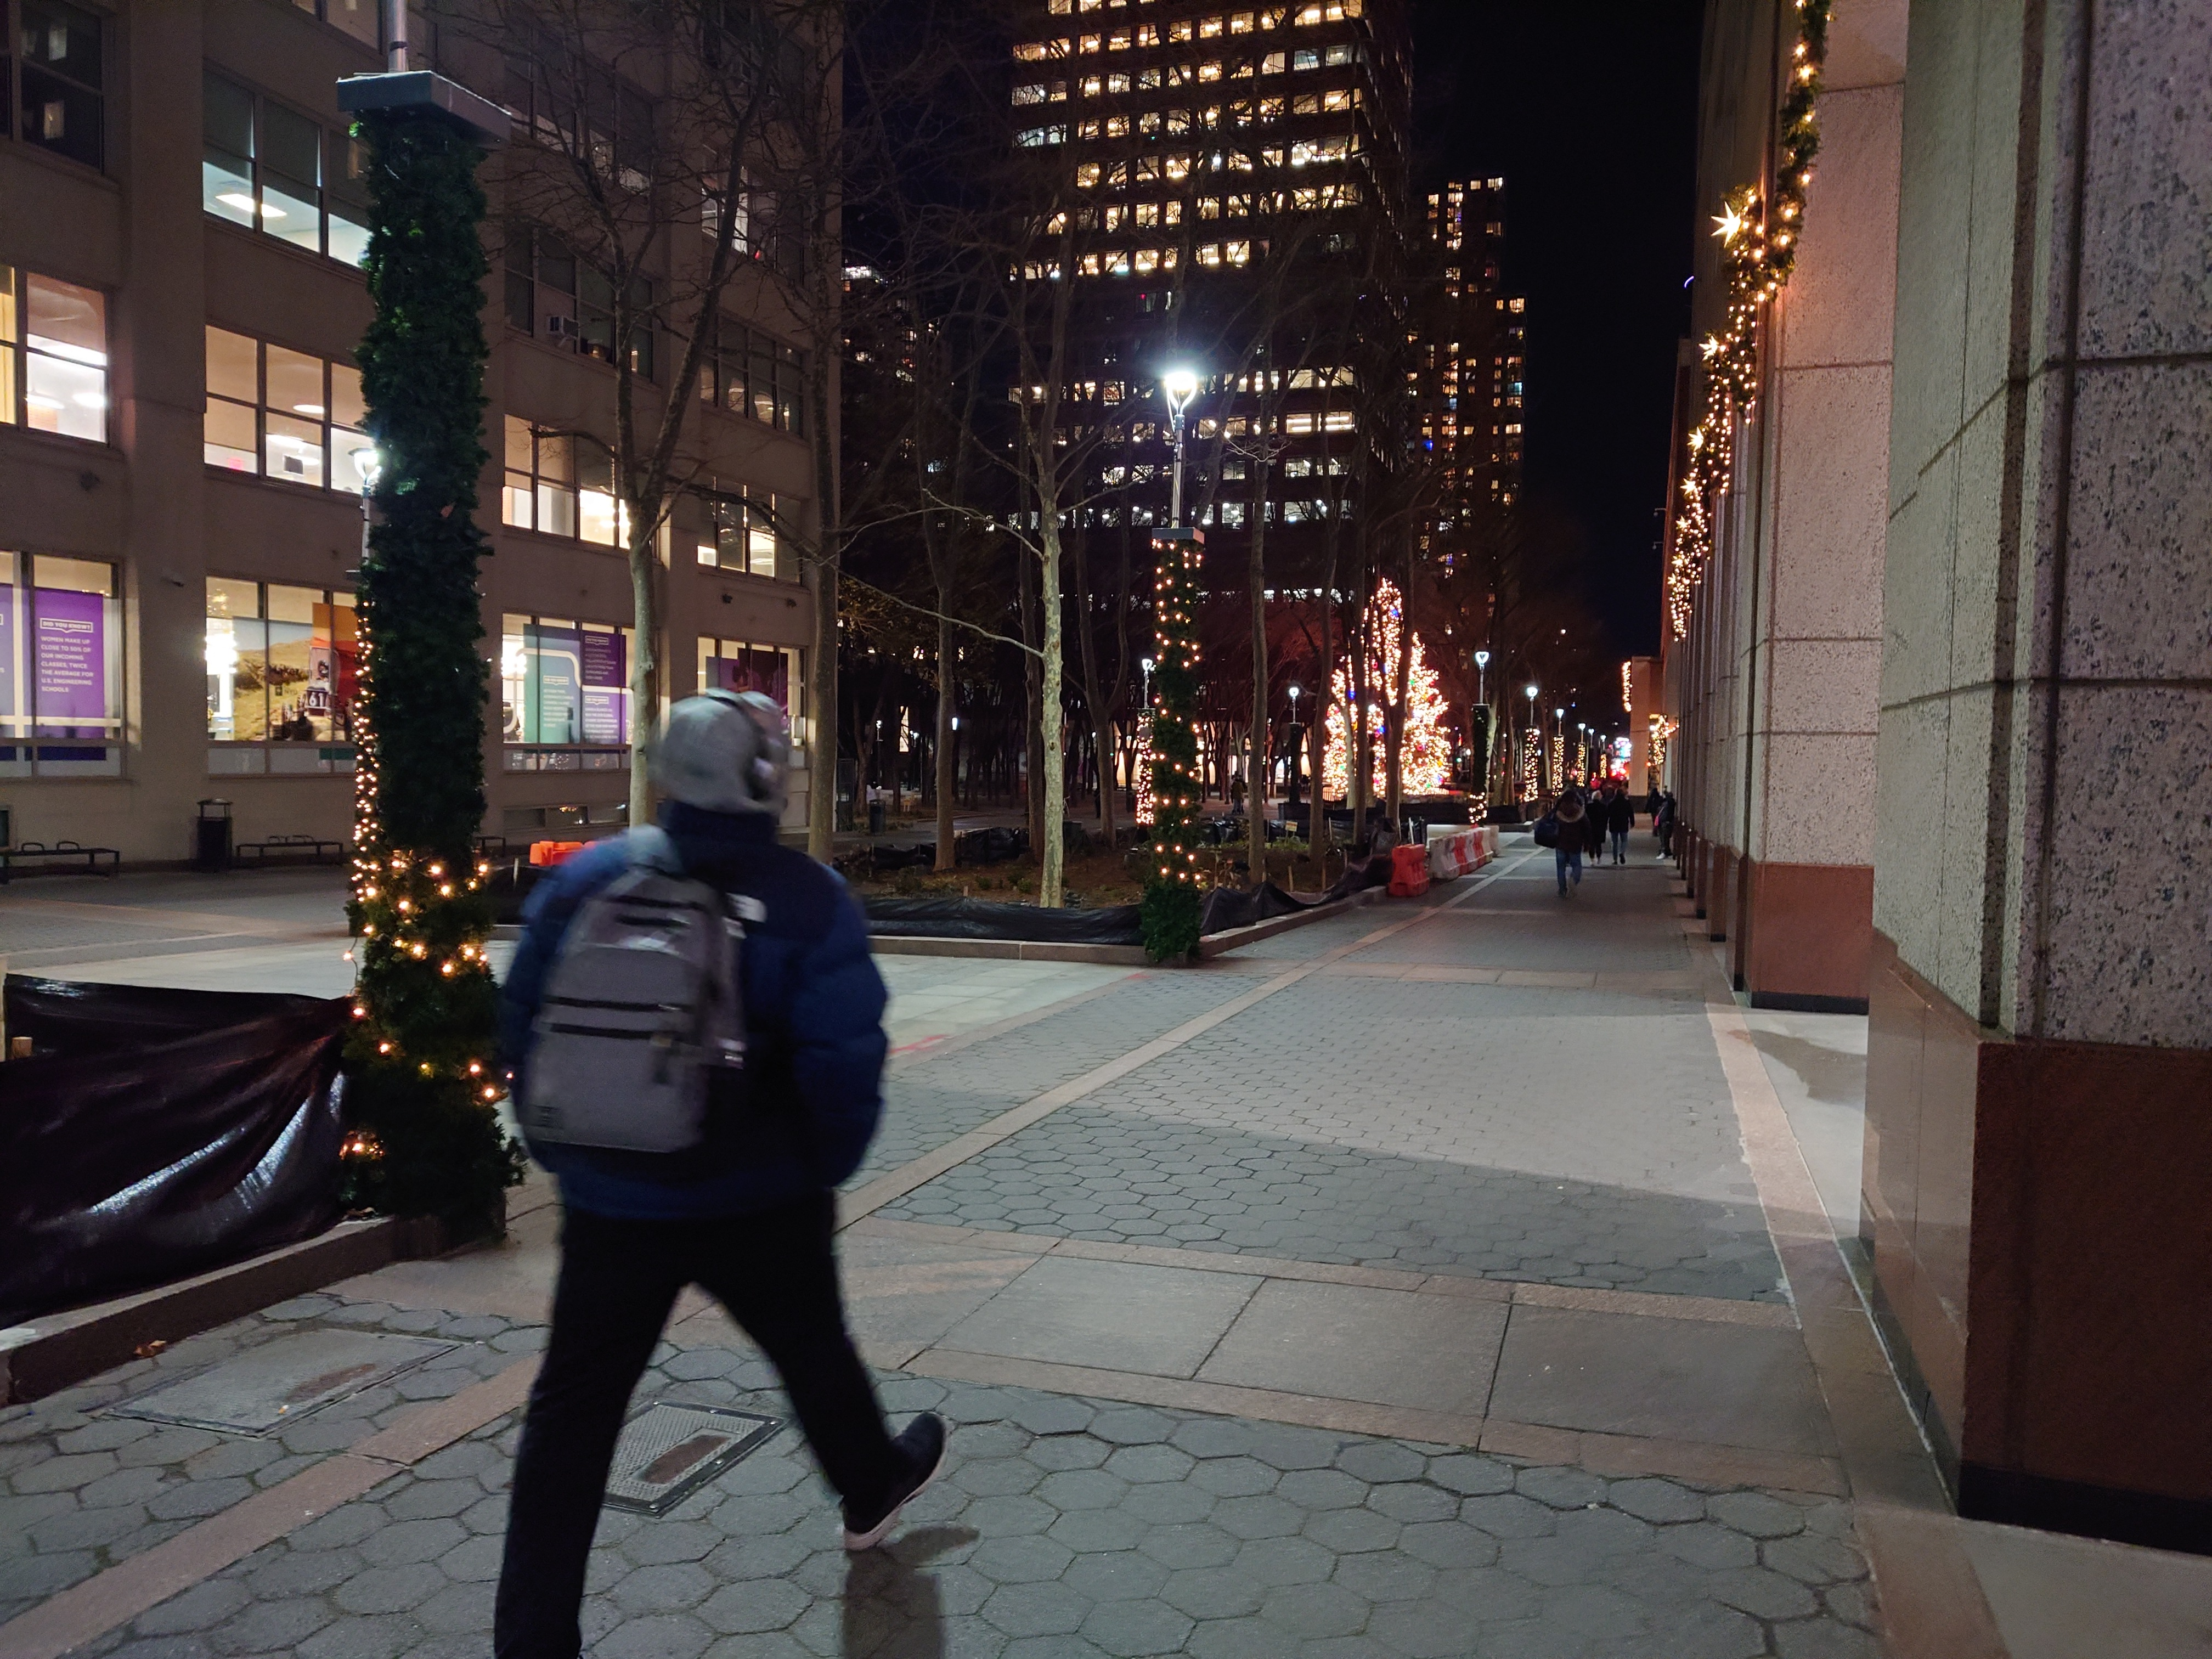person: (482, 693, 949, 1659), (1547, 783, 1587, 901), (1606, 788, 1636, 867), (1586, 790, 1609, 868), (1655, 792, 1674, 859)
